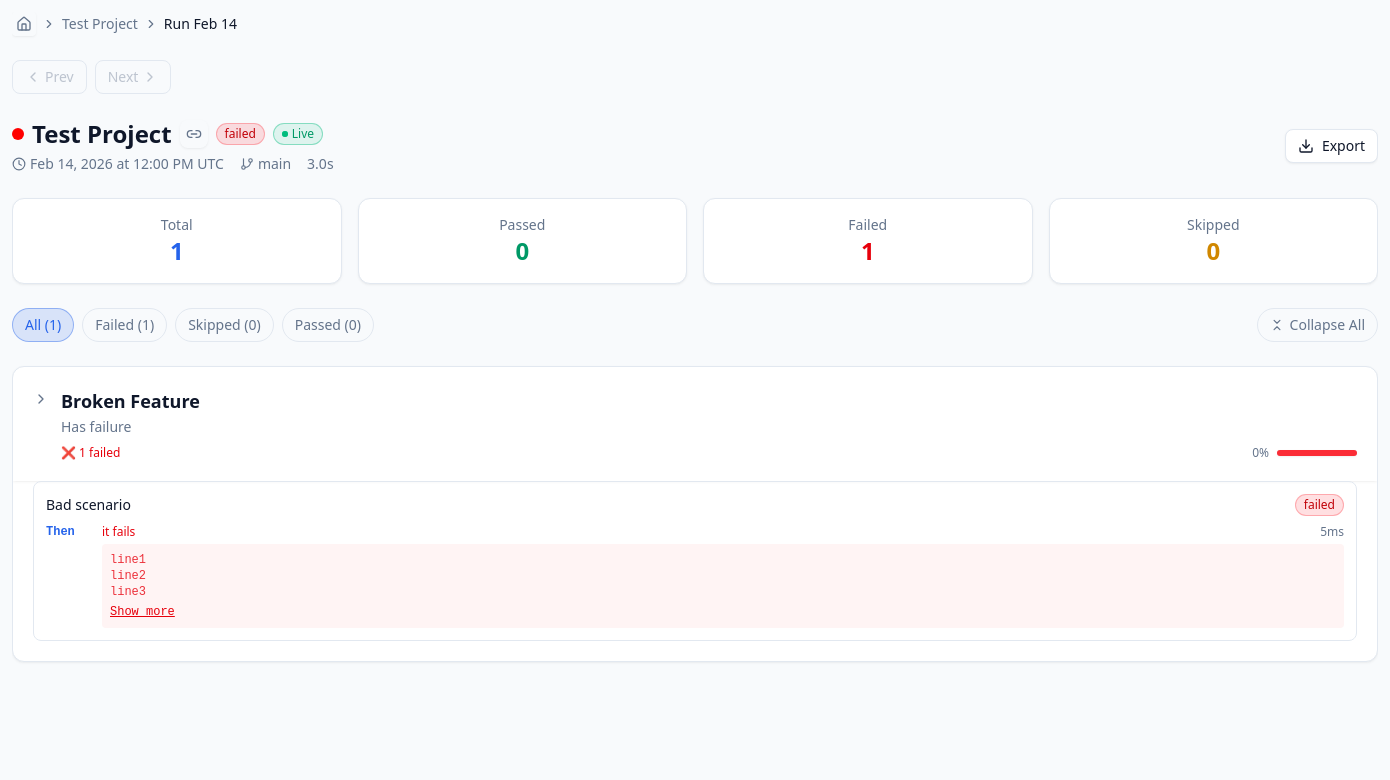
Test: RunClient › renders failed steps with error messages
Expected: the heading "Broken Feature" is shown, [61,389,200,413]
Click the button "Show more" at (142, 612), box [110,604,175,620]
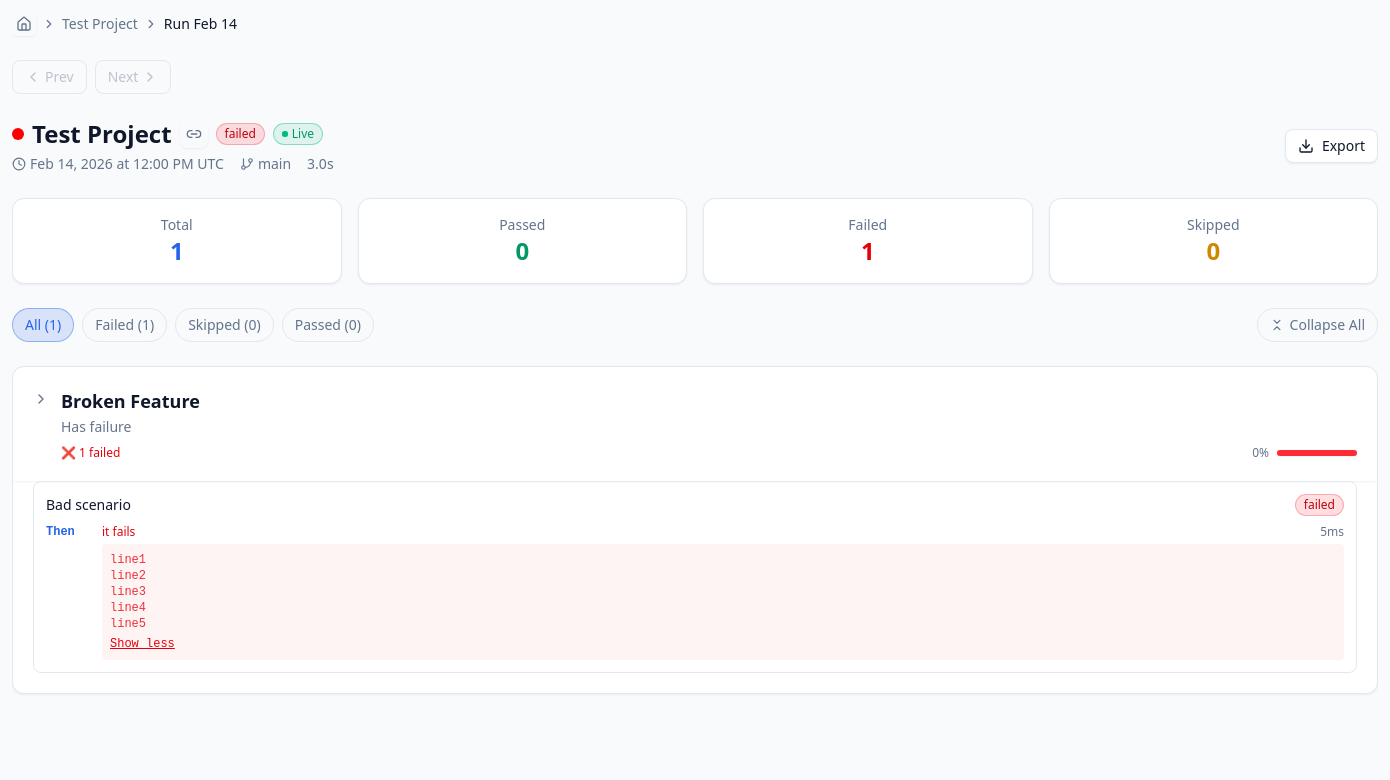
Expected: the button "Show less" is shown, [110,636,175,652]
